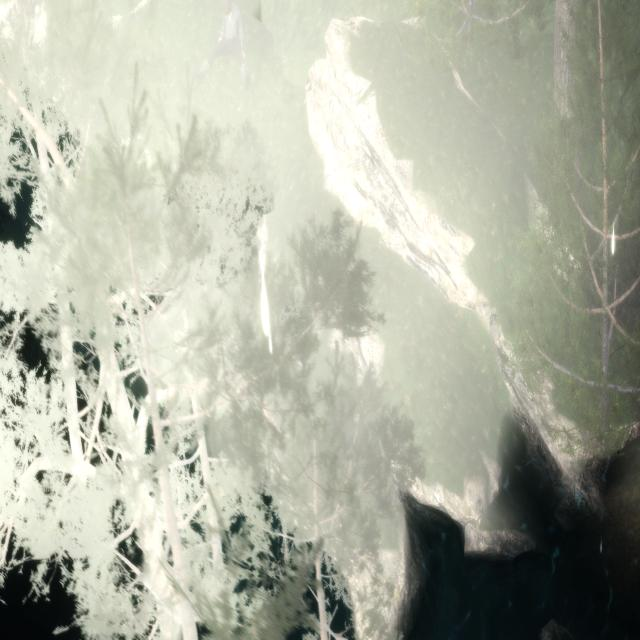Human: (185, 4, 257, 106)
